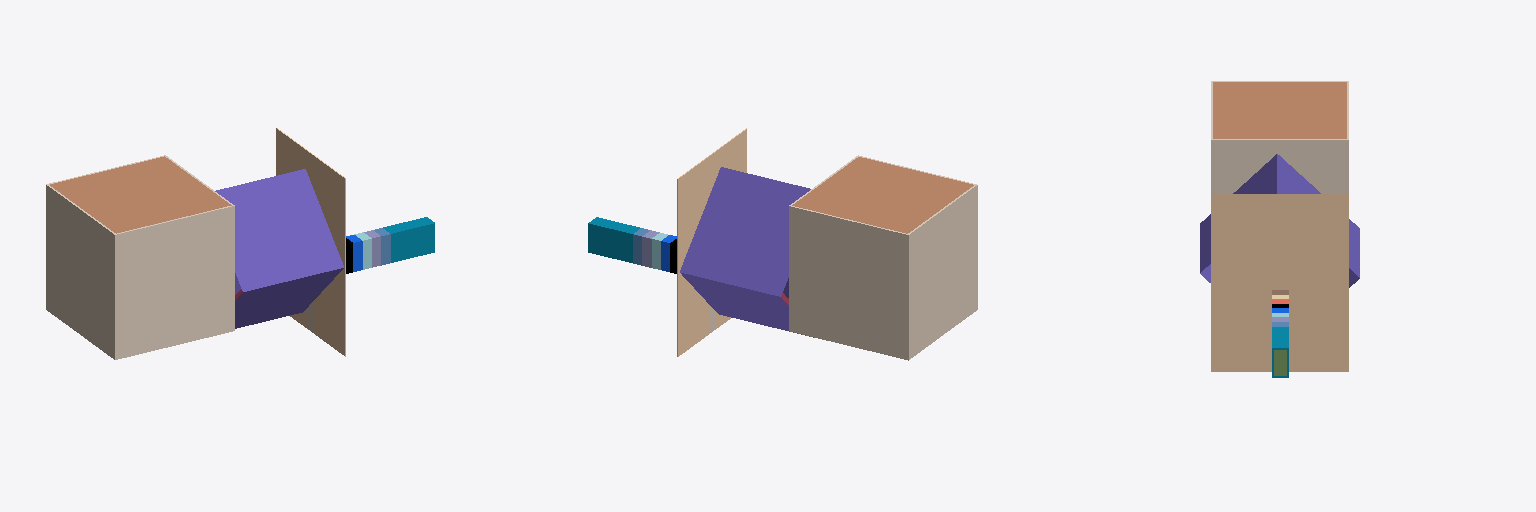
3 renders of one model, left to right at view 1: azimuth 30°, elevation 25°; view 2: azimuth 150°, elevation 25°; view 3: azimuth 270°, elevation 25°, orthographic.
Visible parts, largest first — view 1: entity19_brush4, Cube, entity19_brush5, entity0_brush4, entity0_brush12, entity0_brush3, entity28_brush2, entity0_brush13, entity0_brush5; view 2: entity19_brush3, Cube, entity19_brush5, entity0_brush13, entity0_brush4, entity0_brush3, entity28_brush1, entity0_brush12, entity0_brush5; view 3: entity0_brush12, entity0_brush13, entity19_brush5, Cube, entity19_brush0, entity19_brush1, entity0_brush14.
Part boxes in pixels (left/top/right/bottom): entity19_brush4: left=117, top=206, right=232, bottom=359; Cube: left=215, top=169, right=343, bottom=328; entity19_brush5: left=50, top=156, right=231, bottom=233; entity0_brush4: left=84, top=212, right=116, bottom=359; entity0_brush12: left=314, top=156, right=345, bottom=356; entity0_brush3: left=46, top=184, right=76, bottom=330; entity28_brush2: left=390, top=222, right=434, bottom=262; entity0_brush13: left=276, top=128, right=307, bottom=328; entity0_brush5: left=76, top=206, right=84, bottom=336; entity19_brush3: left=791, top=206, right=906, bottom=359; Cube: left=680, top=167, right=813, bottom=337; entity19_brush5: left=792, top=157, right=973, bottom=233; entity0_brush13: left=677, top=156, right=709, bottom=356; entity0_brush4: left=945, top=184, right=977, bottom=332; entity0_brush3: left=907, top=213, right=938, bottom=360; entity28_brush1: left=588, top=223, right=633, bottom=262; entity0_brush12: left=716, top=128, right=746, bottom=328; entity0_brush5: left=937, top=207, right=945, bottom=337; entity0_brush12: left=1211, top=194, right=1273, bottom=371; entity0_brush13: left=1287, top=194, right=1348, bottom=371; entity19_brush5: left=1213, top=82, right=1346, bottom=138; Cube: left=1200, top=154, right=1359, bottom=287; entity19_brush0: left=1287, top=139, right=1348, bottom=193; entity19_brush1: left=1211, top=139, right=1273, bottom=193; entity0_brush14: left=1274, top=194, right=1286, bottom=289.
Size of the model in its own units: 6020 by 2920 by 2388.